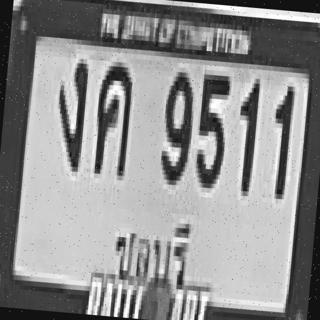A04: (84, 48, 142, 188)
A07: (48, 40, 94, 182)
N01: (258, 61, 303, 226), (228, 62, 270, 218)
N05: (189, 55, 238, 196)
N09: (153, 51, 203, 198)
P13: (105, 203, 207, 317)
